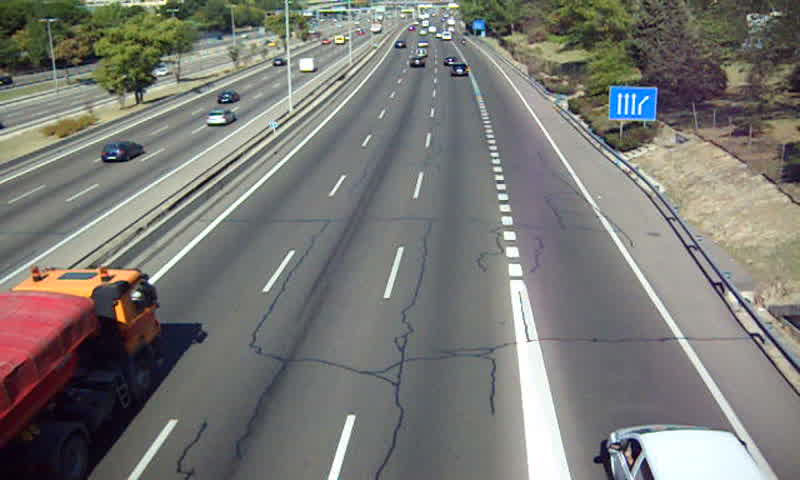car: (450, 63, 470, 78)
